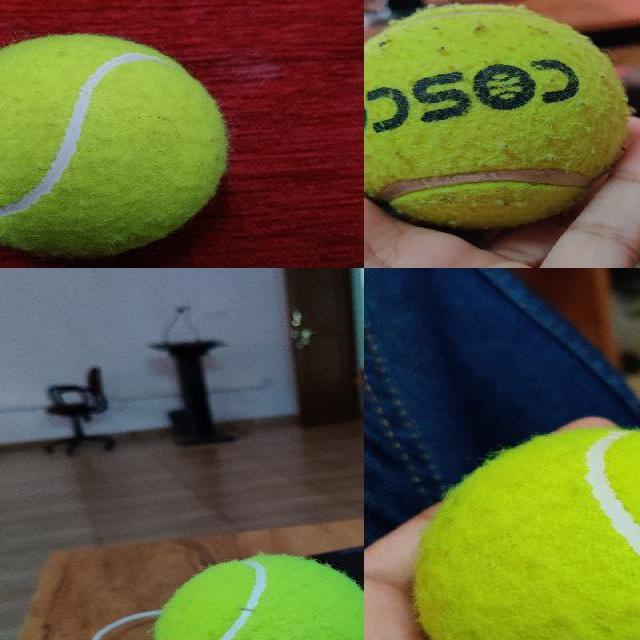tennis-ball: (364, 4, 631, 229), (0, 31, 231, 257), (413, 427, 639, 639), (152, 554, 363, 639)
